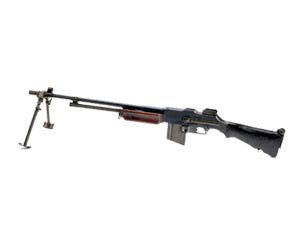rifle: (12, 77, 292, 185)
